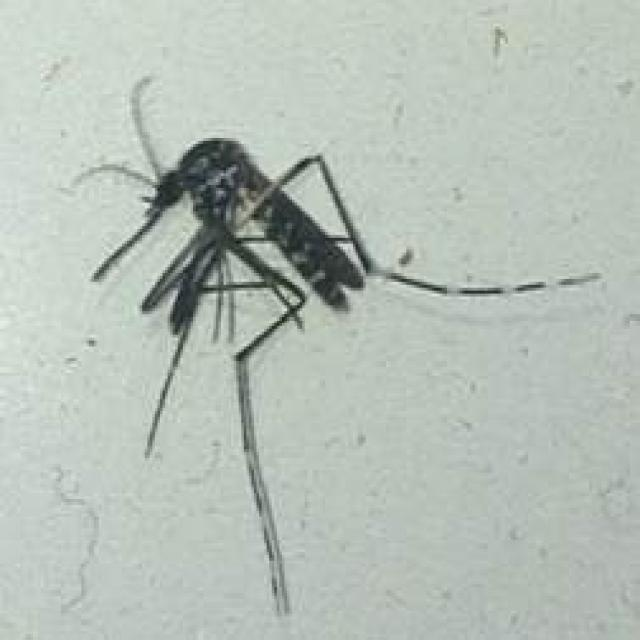albopictus: (69, 68, 548, 587)
